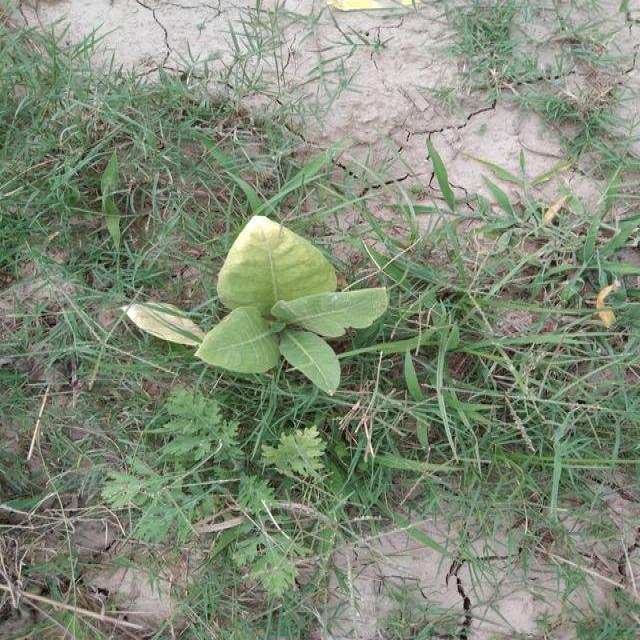crop: (112, 199, 403, 410)
